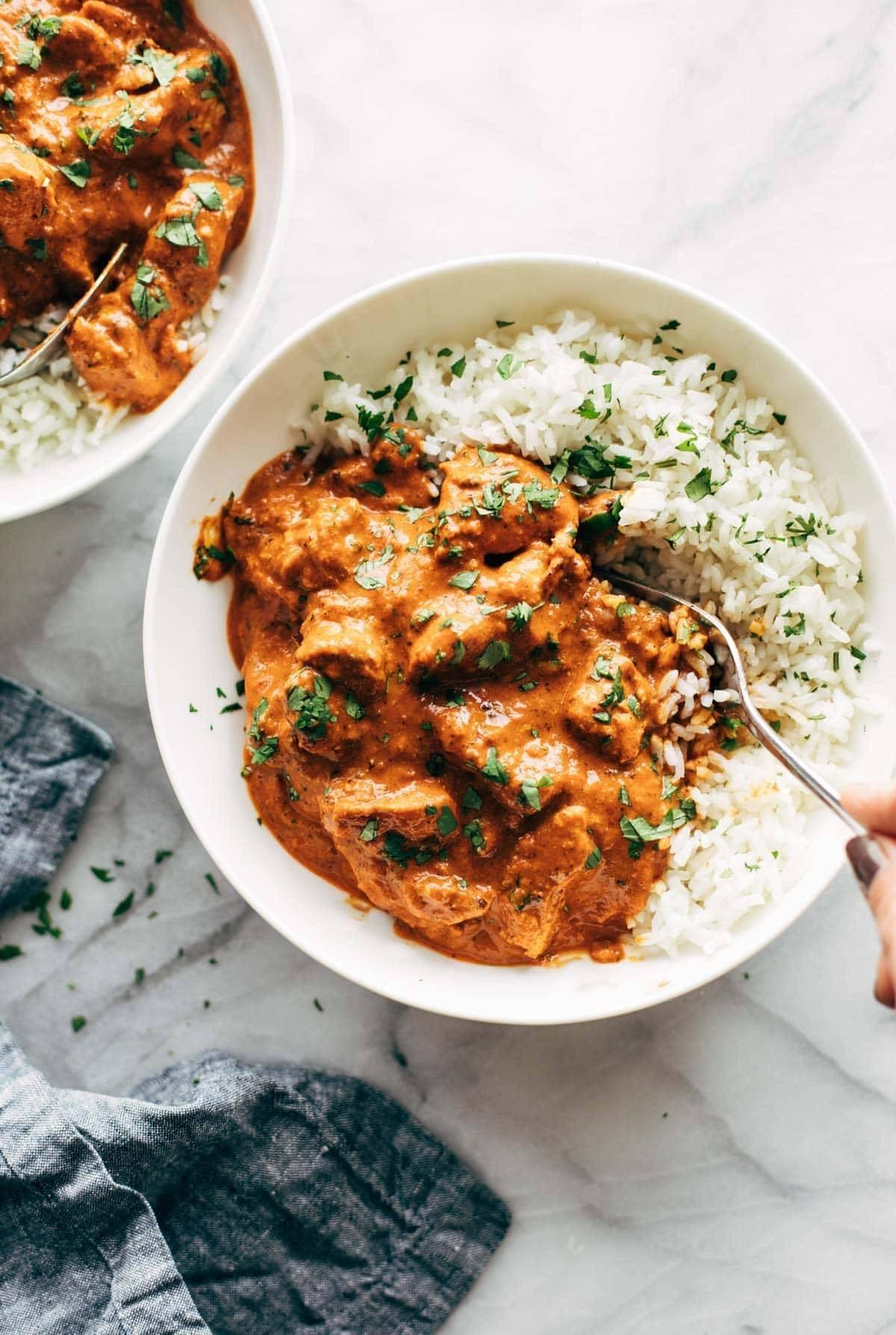chicken: (224, 442, 672, 933), (11, 6, 246, 387)
rice: (706, 323, 851, 936), (358, 267, 706, 473), (0, 327, 86, 477)
